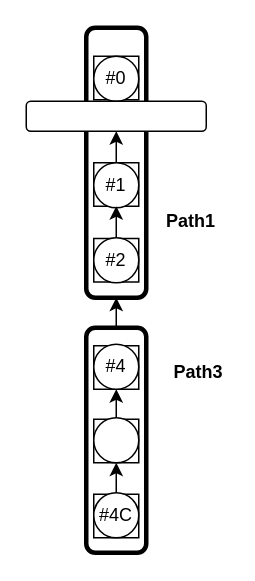
This 255x581 diagram has some shape labels left out. The box of each missing label's shape, as (x1, y1, x2, y2) in pixels:
#4B: (92, 416, 139, 463)
GENESIS BLOCK: (25, 100, 206, 131)
